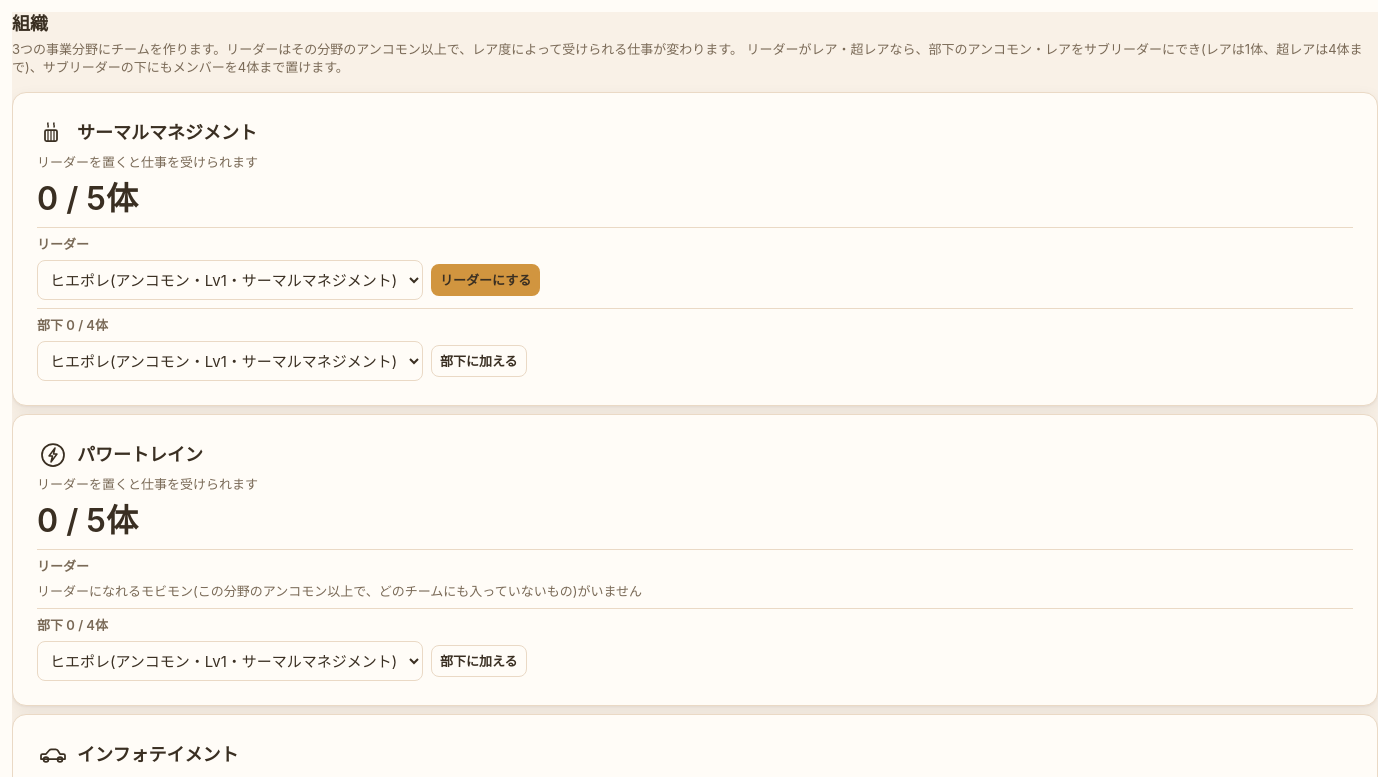
Test: OrganizationPage › 操作に失敗したら理由を表示する
This screenshot has width=1378, height=777.
Step 1. Click the button "リーダーにする" → [486, 280], box [431,264,540,296]
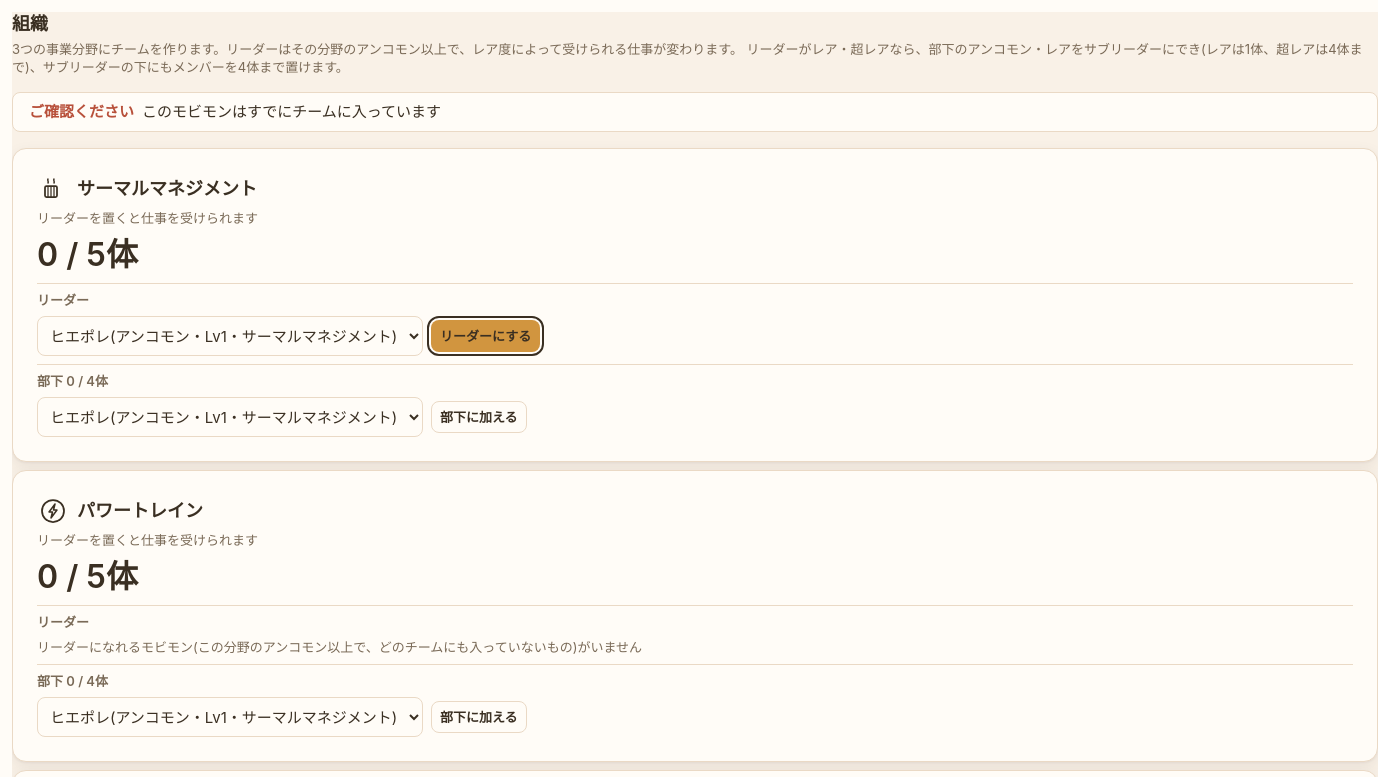
Check: the message shows "すでにチームに入っています", box [142,102,441,121]
